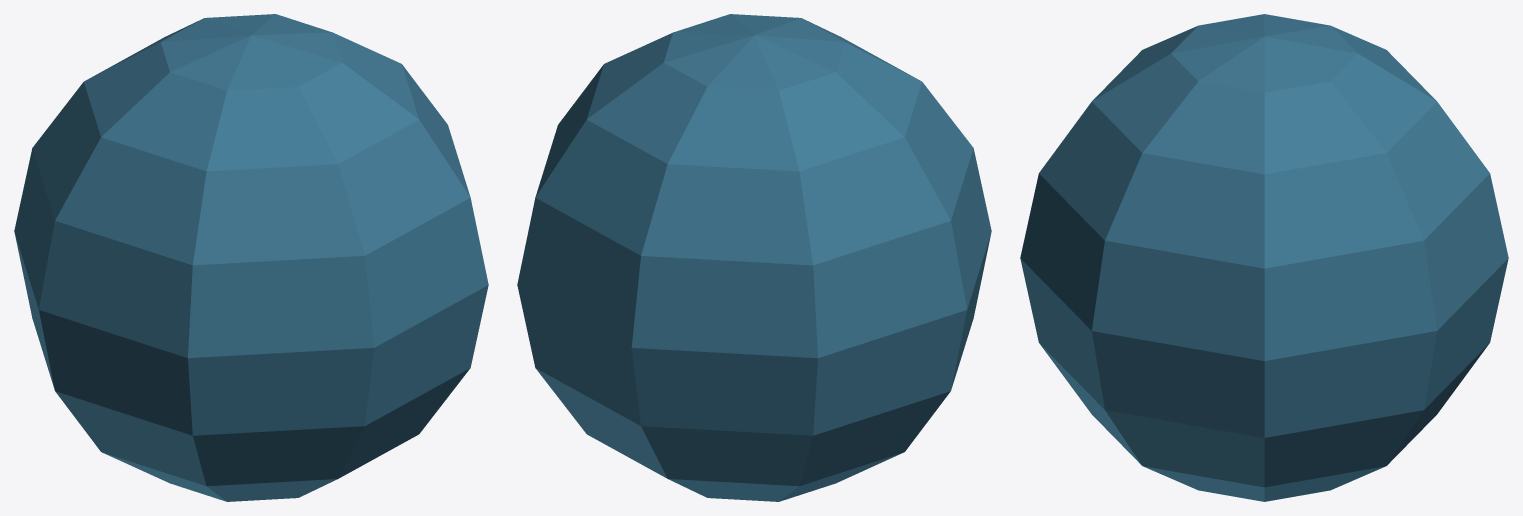
The model's file is EmptyOrbGlass.glb.
3 views of the same model, side by side, from view 1: azimuth 30°, elevation 25°; view 2: azimuth 150°, elevation 25°; view 3: azimuth 270°, elevation 25° (orthographic).
Visible parts, largest first — view 1: CryoOrbEmpty; view 2: CryoOrbEmpty; view 3: CryoOrbEmpty.
Part boxes in pixels (bbox=[...]): CryoOrbEmpty: bbox=[14, 14, 488, 501]; CryoOrbEmpty: bbox=[517, 14, 991, 501]; CryoOrbEmpty: bbox=[1020, 14, 1508, 501].
Size of the model in its own units: 0.4 by 0.4 by 0.4.
1 material, 1 textured.
